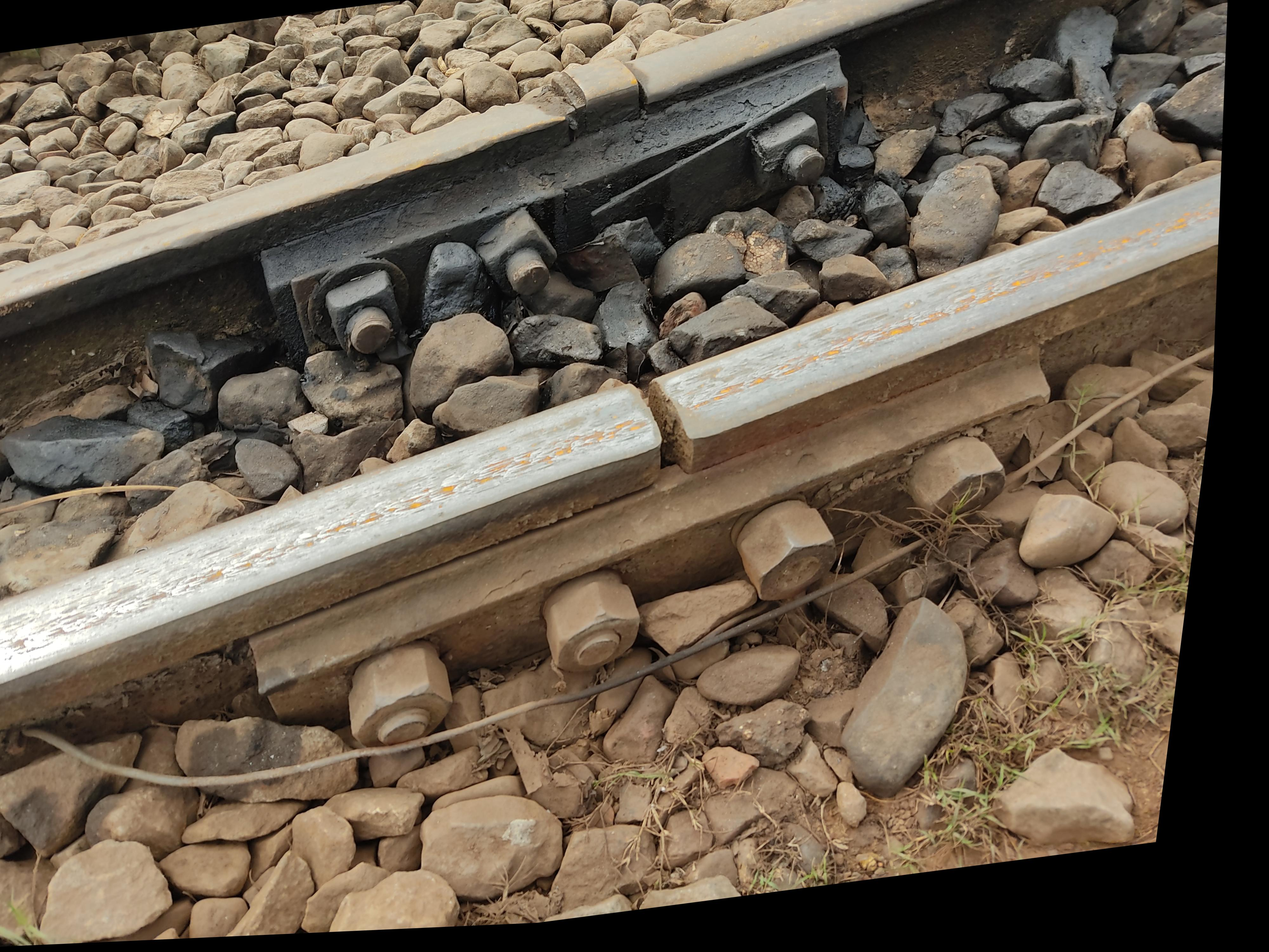person: (531, 398, 734, 579), (507, 61, 692, 234)
